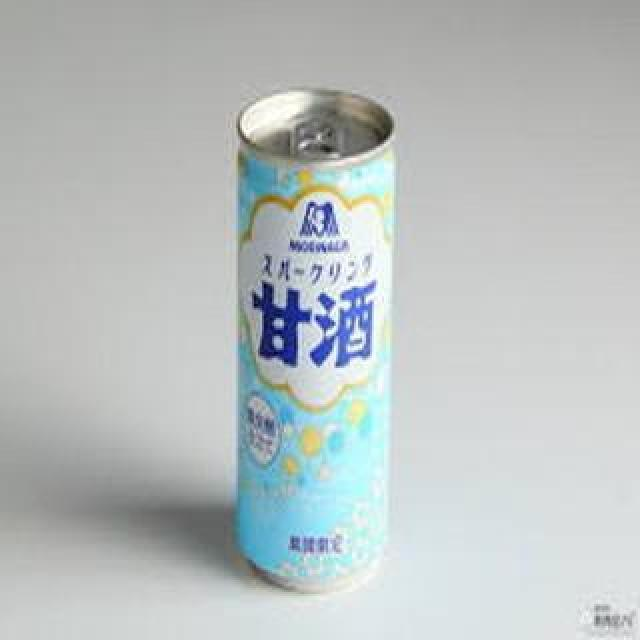metal-can: (239, 86, 401, 592)
